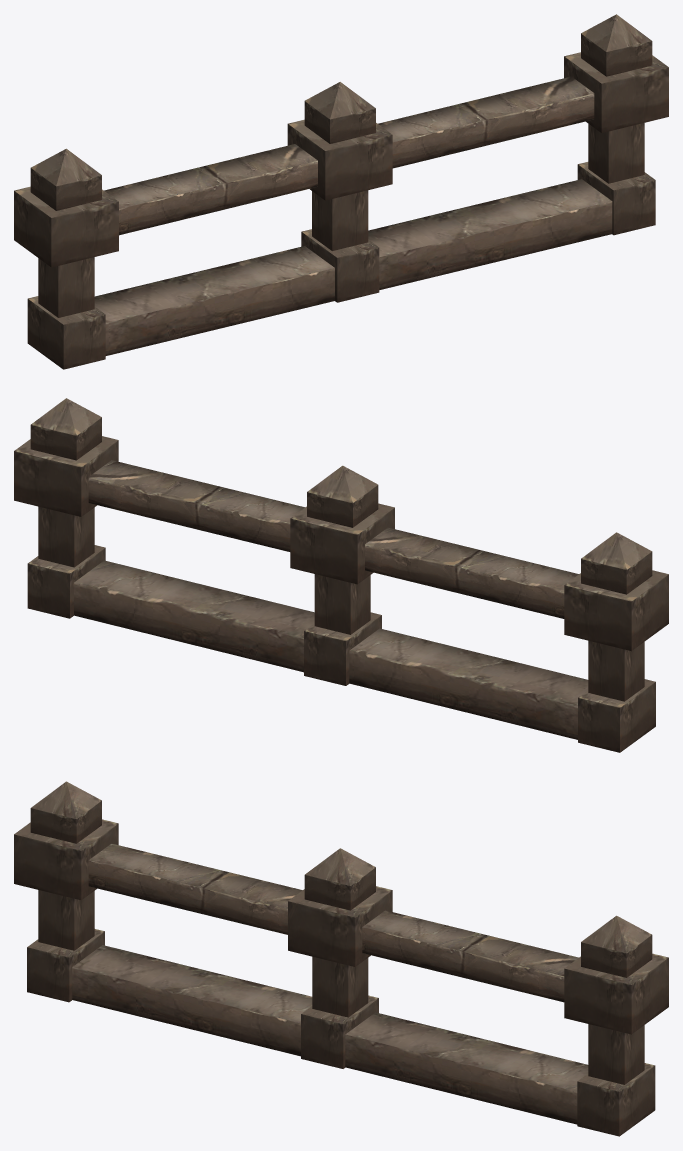
The model's file is new_p_fence_4.FBX.
3 views of the same model, one above another, from view 1: azimuth 30°, elevation 25°; view 2: azimuth 150°, elevation 25°; view 3: azimuth 330°, elevation 25° (orthographic).
Parts seen in each view (by area): view 1: new_p_fence_4; view 2: new_p_fence_4; view 3: new_p_fence_4.
Boxes of the visible parts, x1,y1,x2,y2 form: new_p_fence_4: (14,14,668,369); new_p_fence_4: (14,398,668,752); new_p_fence_4: (14,781,668,1136).
Bounding box in the file's own units: 3.66 × 1.15 × 0.3859.
